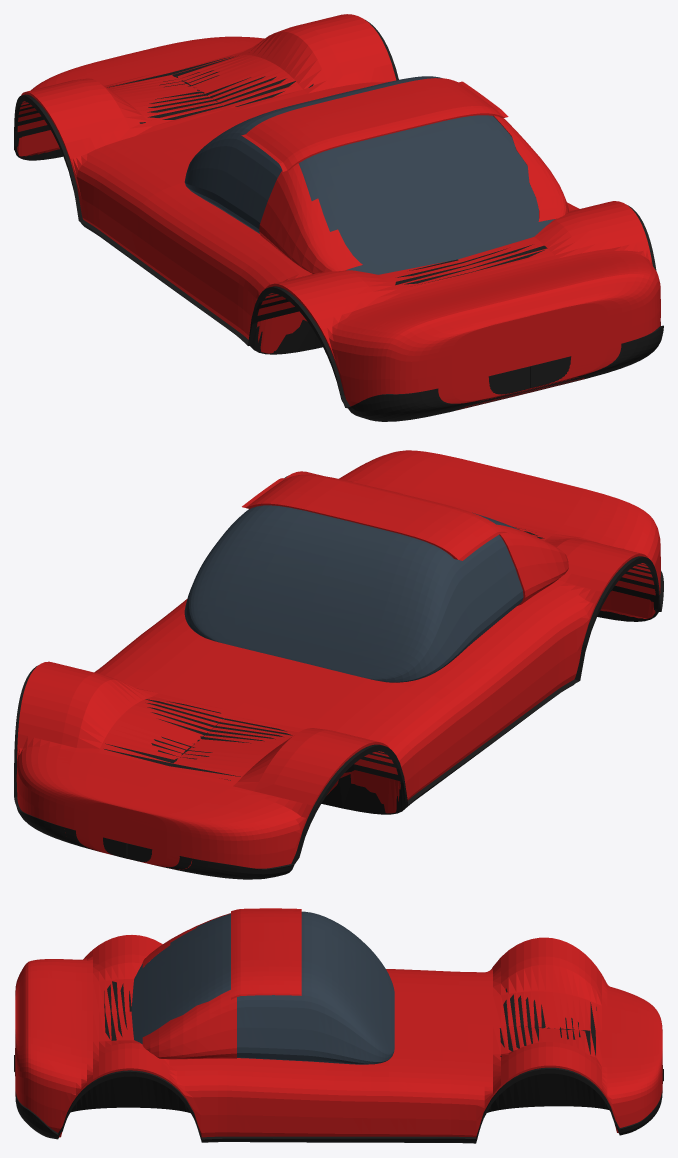
The model's file is StrikerTR.obj.
3 renders of one model, top to bottom at view 1: azimuth 30°, elevation 25°; view 2: azimuth 150°, elevation 25°; view 3: azimuth 270°, elevation 25°, orthographic. The views are drawn at different scales.
Visible parts, largest first — view 1: Karosserie, Glas, Dach, Verkleidung; view 2: Karosserie, Glas, Verkleidung, Dach; view 3: Karosserie, Glas, Verkleidung, Dach.
Boxes of the visible parts, box(x1,y1,x2,y2) form: Karosserie: box(17, 14, 660, 410); Glas: box(184, 76, 555, 274); Dach: box(241, 78, 568, 273); Verkleidung: box(14, 20, 663, 421); Karosserie: box(16, 450, 660, 869); Glas: box(184, 505, 523, 682); Verkleidung: box(14, 475, 663, 879); Dach: box(242, 474, 568, 605); Karosserie: box(15, 935, 662, 1137); Glas: box(131, 911, 394, 1064); Verkleidung: box(14, 981, 663, 1143); Dach: box(142, 908, 301, 1059).
Bounding box in the file's own units: 8.22 × 4.2 × 16.57.
